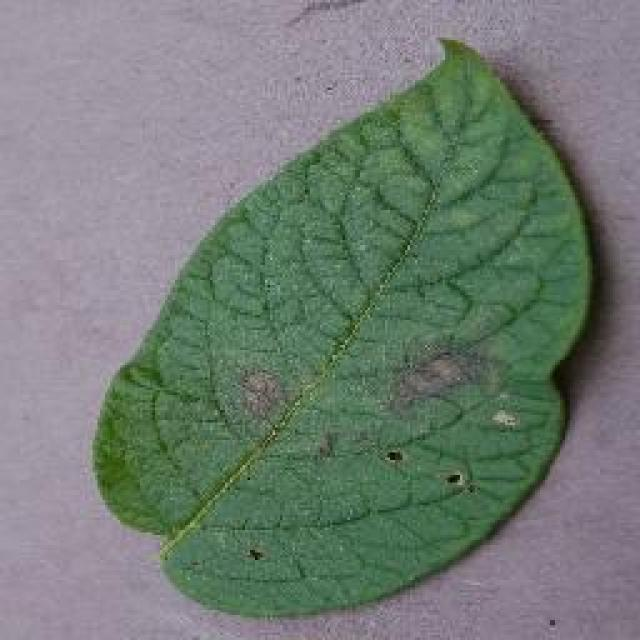Potato: (90, 35, 595, 617)
